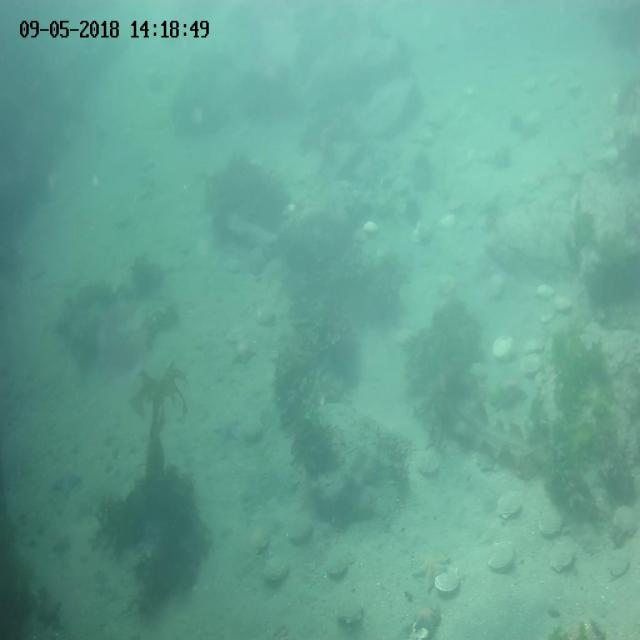scallop: (496, 486, 524, 521), (614, 502, 640, 538), (487, 541, 515, 574), (288, 513, 314, 546), (334, 597, 364, 625), (262, 555, 290, 585), (538, 510, 564, 540), (473, 446, 498, 474), (549, 549, 574, 575), (434, 570, 460, 595), (324, 553, 349, 579), (490, 332, 514, 359), (520, 354, 542, 375), (418, 457, 440, 477), (393, 326, 415, 346), (523, 336, 543, 354), (535, 282, 557, 298), (362, 219, 382, 236), (442, 212, 459, 230), (554, 297, 571, 312)
starfish: (412, 544, 449, 590), (51, 463, 84, 497), (411, 601, 443, 635), (36, 596, 63, 632), (214, 419, 238, 447), (231, 343, 257, 367), (53, 530, 74, 557)
